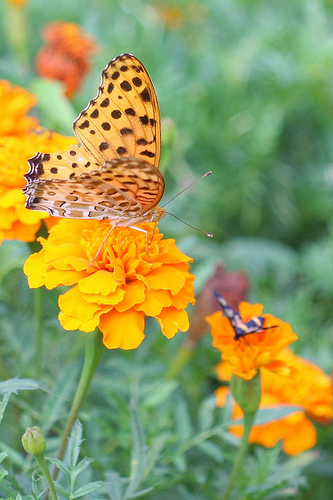Argyreus hyperbius: (19, 45, 217, 258)
butterfly: (21, 47, 219, 260)
